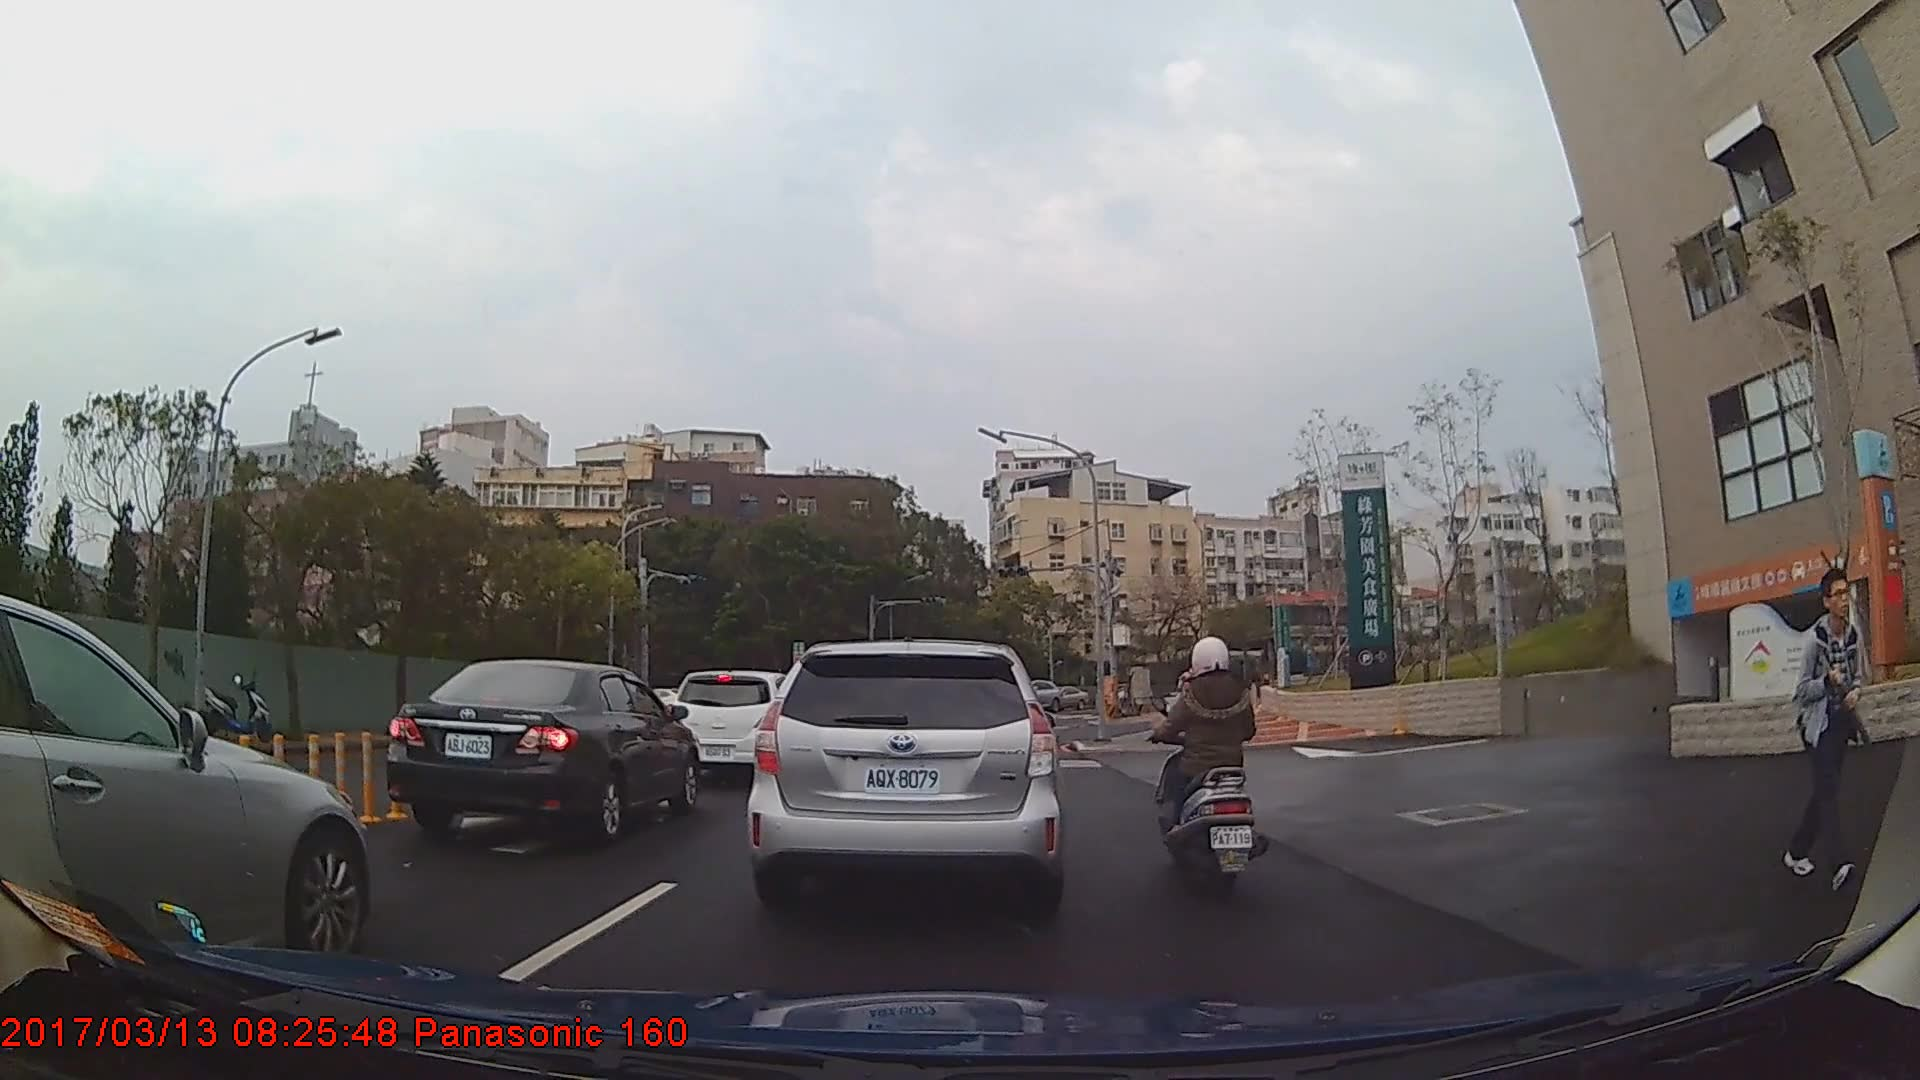pedestrian: (1781, 564, 1873, 892)
rider: (1150, 638, 1266, 902)
vehicle: (0, 594, 367, 971), (744, 639, 1063, 917), (388, 656, 699, 839), (673, 669, 798, 780), (1050, 684, 1090, 713)
